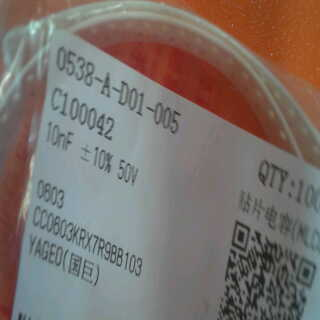10nF: (39, 121, 76, 152)
